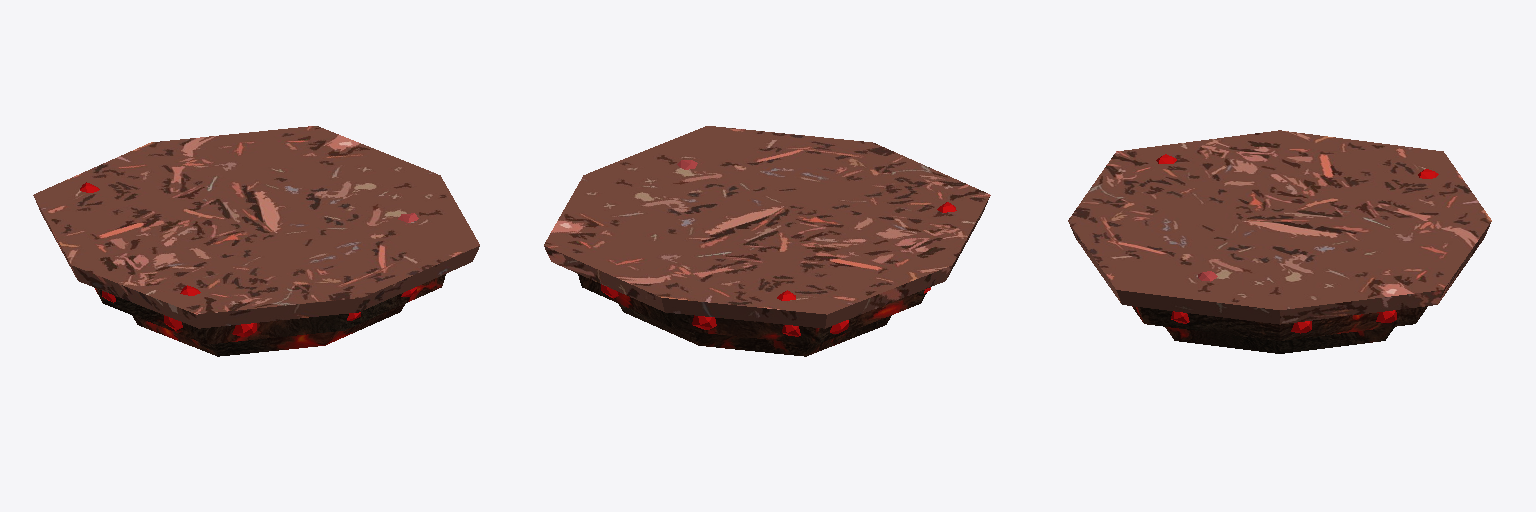
The picture shows the model from 3 angles: view 1: azimuth 30°, elevation 25°; view 2: azimuth 150°, elevation 25°; view 3: azimuth 270°, elevation 25°; orthographic projection.
Parts seen in each view (by area): view 1: Plane; view 2: Plane; view 3: Plane.
Part boxes in pixels (x1,y1,x2,y2): Plane: (33, 126, 479, 356); Plane: (544, 126, 990, 356); Plane: (1068, 130, 1491, 353).
Bounding box in the file's own units: 39.02 × 8.1 × 38.86.
Materials: 2 (1 with a texture image).